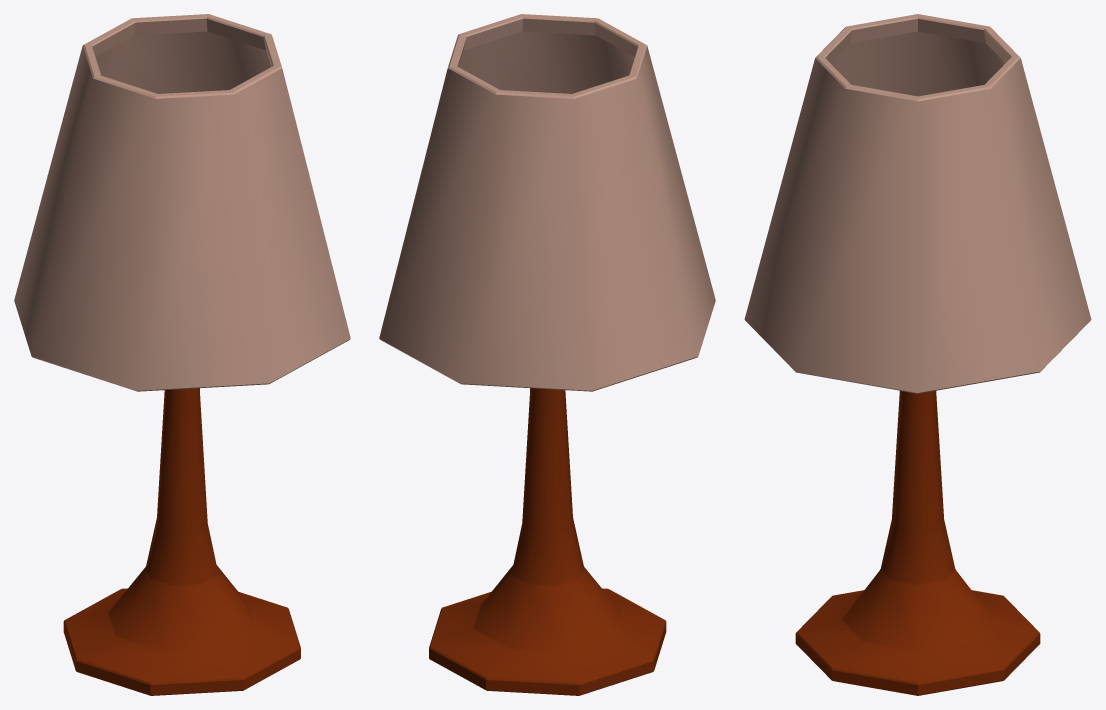
File: lamp.FBX
3 renders of one model, left to right at view 1: azimuth 30°, elevation 25°; view 2: azimuth 150°, elevation 25°; view 3: azimuth 270°, elevation 25°, orthographic.
Visible parts, largest first — view 1: Lamp; view 2: Lamp; view 3: Lamp.
Part boxes in pixels (x1,y1,x2,y2): Lamp: [14, 14, 350, 695]; Lamp: [379, 14, 715, 695]; Lamp: [744, 14, 1091, 695].
Bounding box in the file's own units: 11.98 × 22.39 × 11.98.
